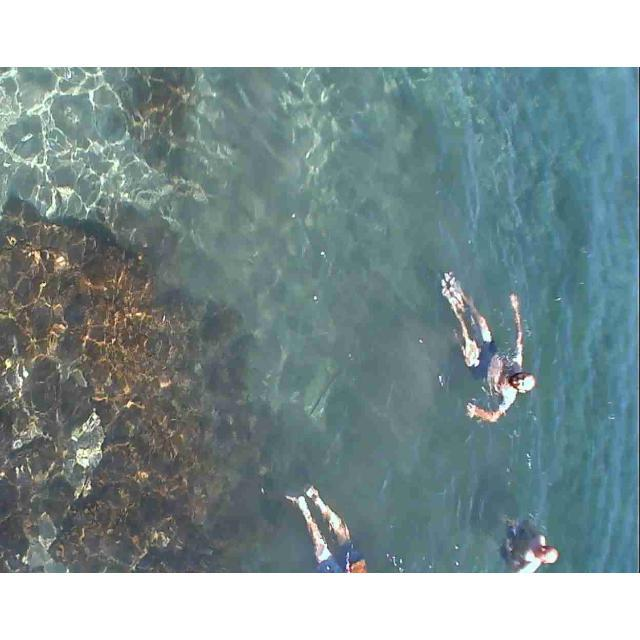human: (437, 256, 541, 440)
